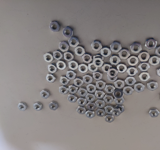nut: (119, 48, 131, 60), (91, 40, 103, 52), (69, 36, 80, 48), (146, 38, 157, 50), (127, 66, 139, 77), (110, 55, 122, 66), (64, 26, 74, 39), (50, 21, 61, 32), (131, 42, 142, 53), (111, 41, 122, 52), (59, 41, 70, 52), (53, 49, 64, 60), (59, 75, 70, 86), (147, 81, 159, 91), (139, 62, 151, 72), (139, 72, 151, 82), (93, 58, 105, 68), (101, 46, 111, 58), (149, 108, 160, 118), (49, 101, 60, 111), (33, 102, 44, 112), (40, 90, 51, 100), (150, 55, 160, 66), (117, 64, 128, 74), (44, 52, 54, 63), (66, 70, 77, 80), (128, 56, 139, 66), (140, 51, 150, 62), (126, 76, 137, 86), (102, 64, 113, 74), (108, 73, 119, 83), (75, 46, 86, 56), (78, 63, 89, 73), (68, 60, 78, 71), (58, 85, 69, 95), (18, 102, 28, 112), (135, 83, 145, 93), (64, 52, 74, 62), (96, 80, 106, 90), (57, 61, 67, 71), (124, 86, 134, 96), (83, 74, 93, 84), (115, 79, 125, 89), (93, 71, 103, 81), (88, 62, 98, 72), (86, 93, 96, 103), (68, 94, 79, 103), (93, 55, 104, 64), (76, 106, 87, 115), (74, 78, 85, 87), (46, 74, 56, 83), (106, 85, 116, 94), (83, 54, 93, 63), (78, 88, 88, 97), (78, 97, 87, 107), (47, 65, 58, 73), (114, 97, 125, 105), (105, 95, 114, 104), (87, 84, 96, 93), (115, 90, 124, 99), (97, 109, 106, 118), (105, 106, 114, 115), (112, 108, 121, 117), (116, 105, 125, 114), (69, 85, 78, 94), (105, 115, 115, 123), (96, 100, 106, 108), (109, 70, 119, 78), (96, 91, 106, 99), (86, 111, 95, 119), (88, 103, 96, 111), (156, 68, 160, 78), (156, 46, 160, 56)
